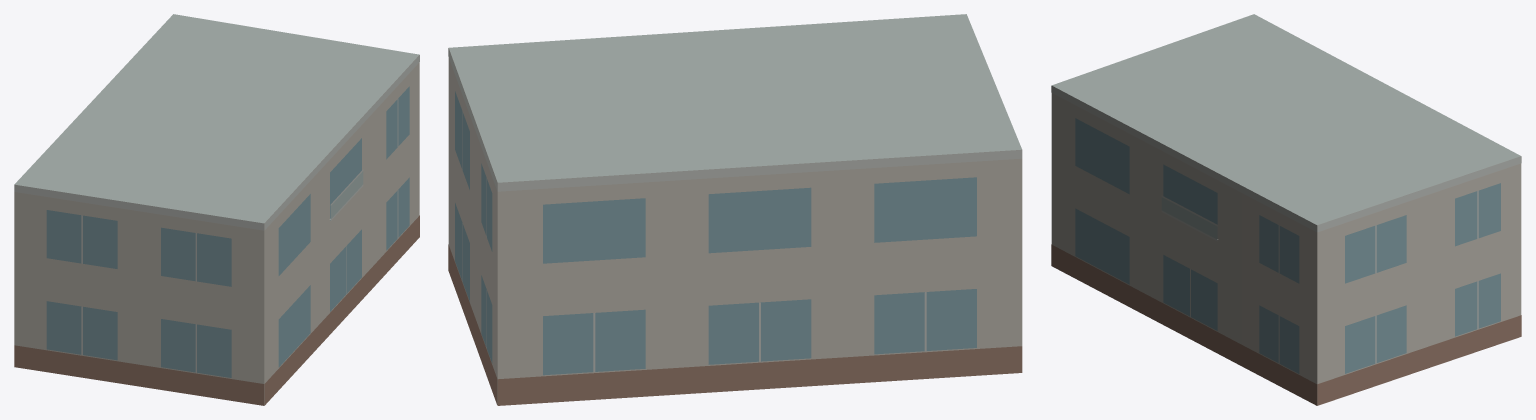
File: survey-upis-32606074.glb
The picture shows the model from 3 angles, left to right: view 1: azimuth 30°, elevation 25°; view 2: azimuth 150°, elevation 25°; view 3: azimuth 270°, elevation 25°; orthographic projection. The views are drawn at different scales.
Visible parts, largest first — view 1: survey-upis-32606074.tmp; view 2: survey-upis-32606074.tmp; view 3: survey-upis-32606074.tmp.
Part boxes in pixels (x1=…): survey-upis-32606074.tmp: x1=14, y1=14, x2=419, y2=405; survey-upis-32606074.tmp: x1=448, y1=14, x2=1022, y2=405; survey-upis-32606074.tmp: x1=1051, y1=14, x2=1521, y2=405.
Size of the model in its own units: 15.31 by 6.1 by 14.39.
